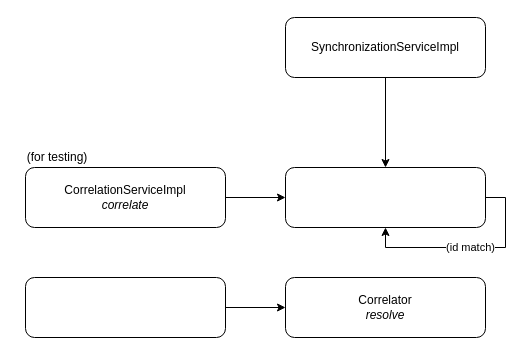
This 531x355 diagram has some shape labels left out. The centre of each missing label's shape, as x and y in pixels:
CorrelationCaseManager completeCorrelationCase: [125,307]
Correlator correlate: [385,197]
